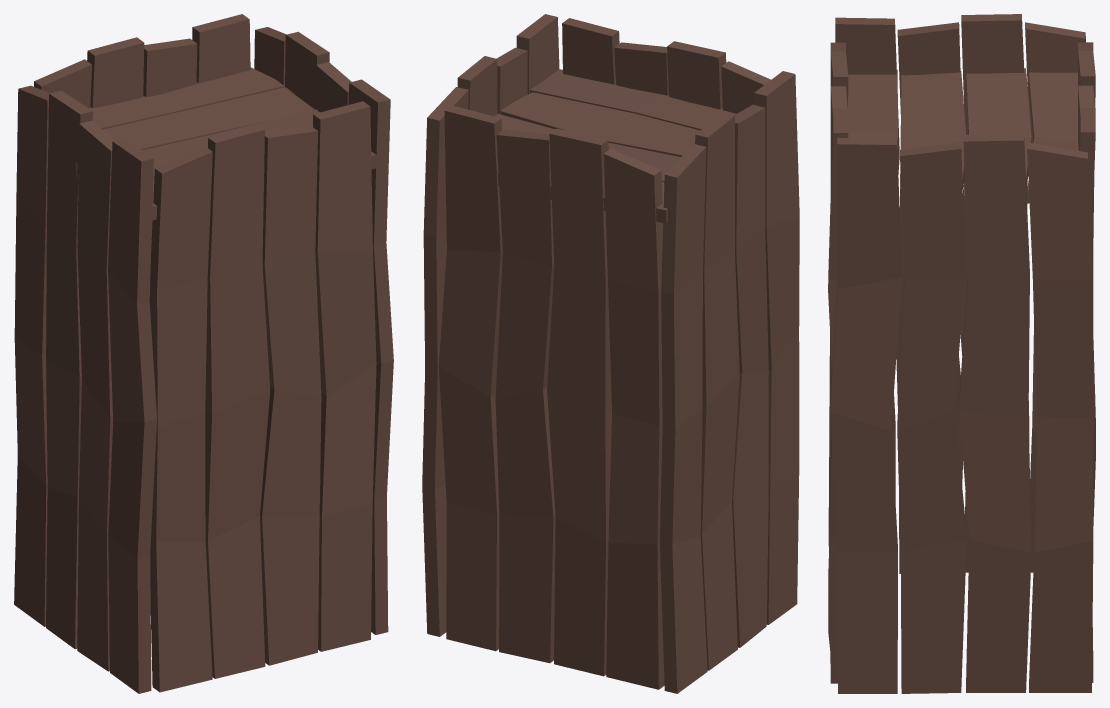
The model's file is WoodenTower_01.fbx.
3 views of the same model, side by side, from view 1: azimuth 30°, elevation 25°; view 2: azimuth 150°, elevation 25°; view 3: azimuth 270°, elevation 25° (orthographic). The views are drawn at different scales.
Visible parts, largest first — view 1: WoodenTower_01; view 2: WoodenTower_01; view 3: WoodenTower_01.
Part boxes in pixels (x1,y1,x2,y2): WoodenTower_01: [14, 14, 393, 693]; WoodenTower_01: [422, 14, 799, 693]; WoodenTower_01: [828, 14, 1095, 693].
Size of the model in its own units: 202 by 406 by 178.
